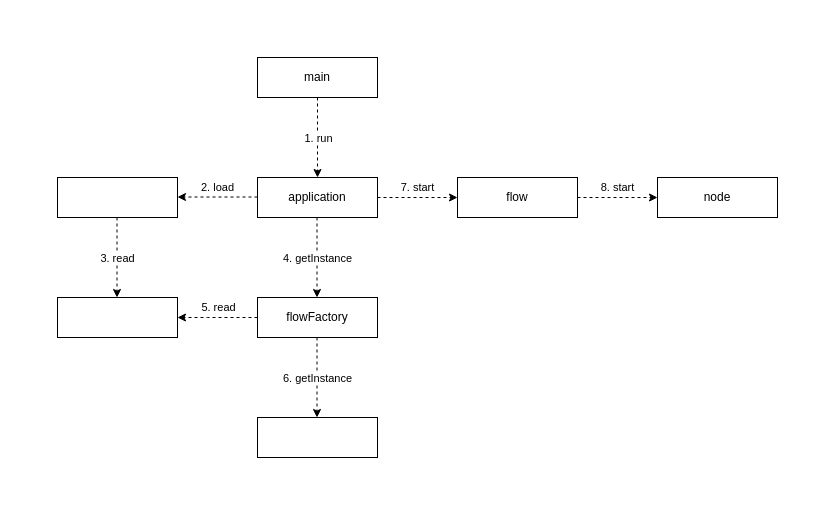
This 834x514 diagram has some shape labels left out. Here are the shapes that lost their labels. From the top down, the centre of each, then its label:
At (x=117, y=197): "settingLoader".
At (x=117, y=317): "jsonFileReader".
At (x=317, y=437): "functionFactory".
